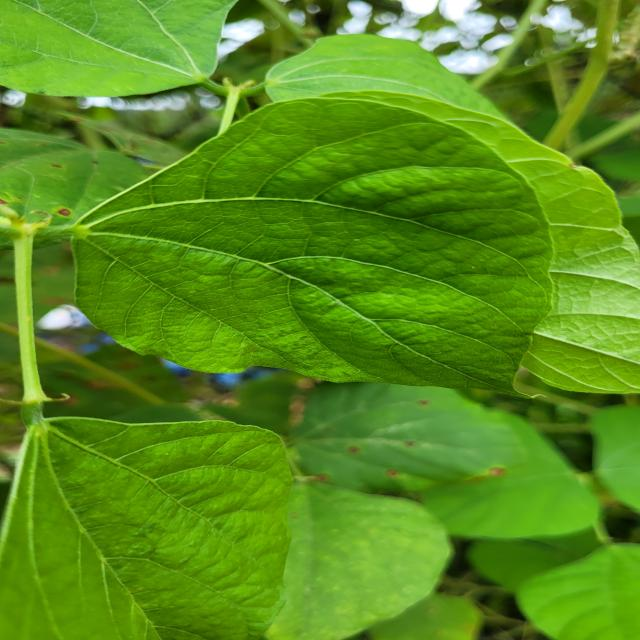Dolicos bean_cercospora leaf spot: (284, 373, 522, 496)
Dolicos bean_healthy: (68, 93, 547, 404), (0, 406, 330, 640), (0, 0, 233, 96), (407, 454, 594, 537), (511, 537, 640, 640)
